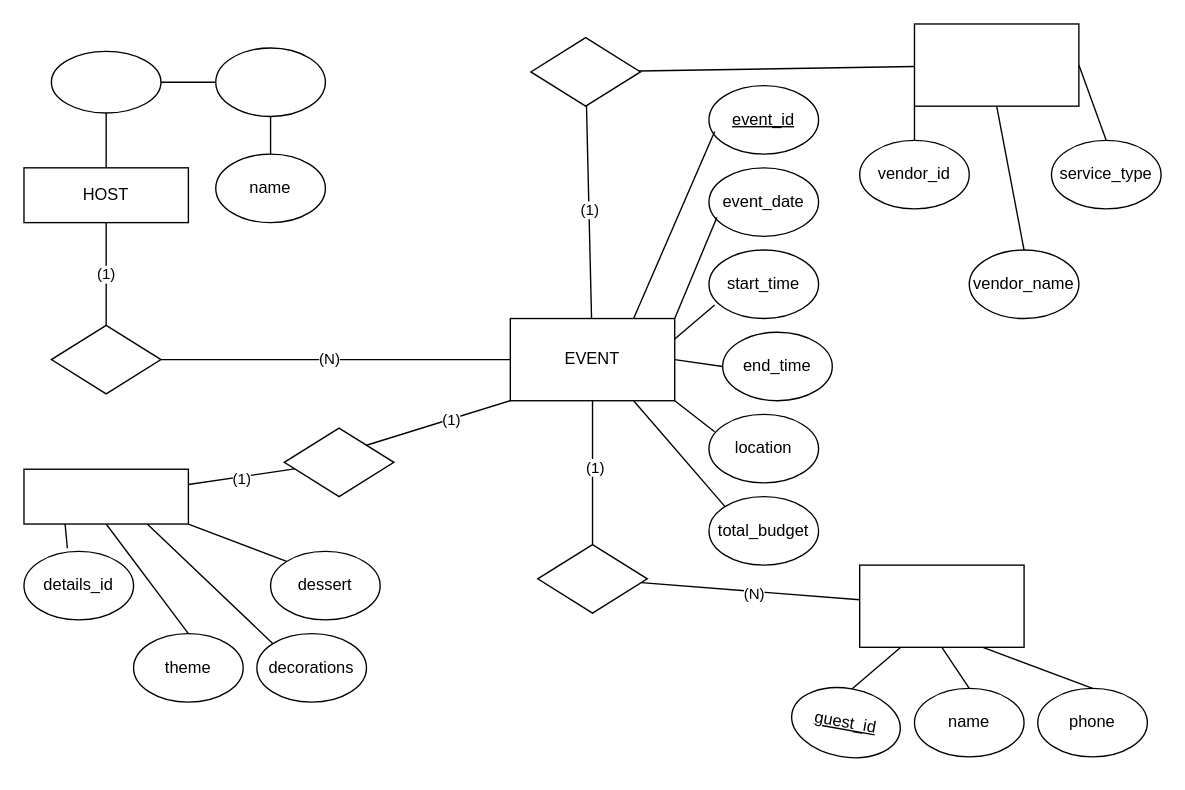
Image size: 1185x790. Some labels were removed from this diagram. The shapes that lost their labels are listed below. From the top down, each one's box as (x1, y1, x2, y2) in pixels, then its label:
(50, 50, 161, 113): host_id
(214, 47, 325, 116): email
(530, 36, 640, 106): HIRES
(913, 23, 1079, 106): VENDOR
(50, 324, 161, 394): PLANS
(283, 427, 394, 497): HAS
(23, 468, 188, 524): EVENT DETAILS
(536, 543, 647, 613): INVITES
(858, 564, 1024, 647): GUEST
